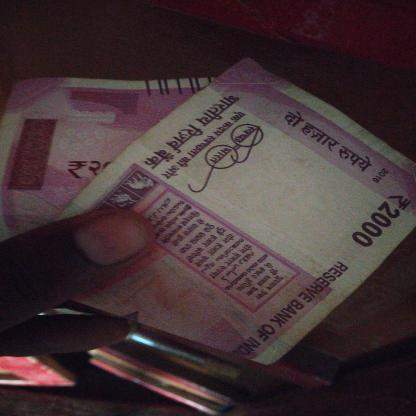New2000Back: (95, 65, 416, 364)
